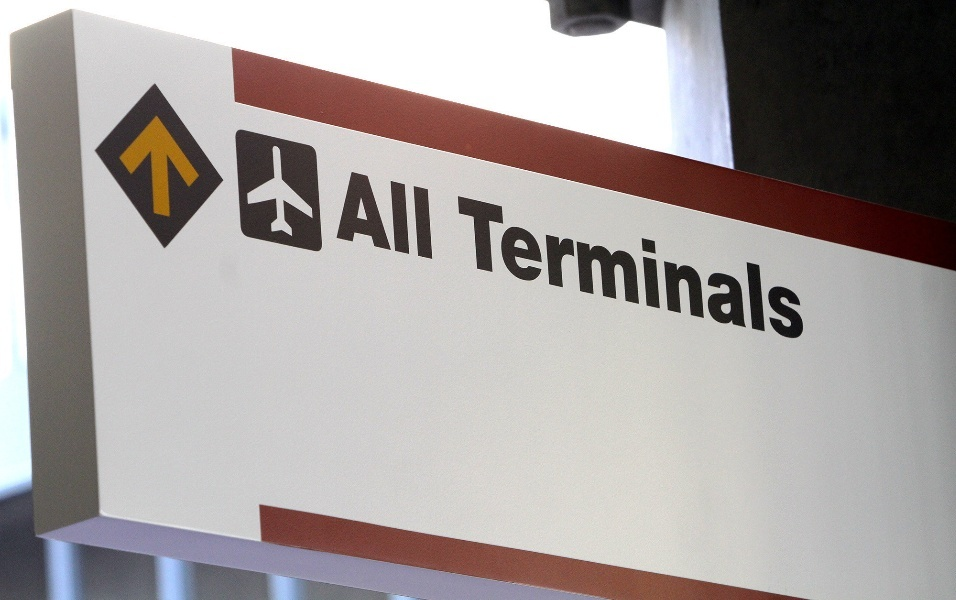text: (465, 194, 480, 342), (481, 194, 496, 342), (497, 194, 512, 342), (513, 194, 528, 342), (529, 194, 544, 342), (545, 194, 560, 342), (561, 194, 576, 342), (577, 194, 592, 342), (593, 194, 608, 342), (609, 194, 624, 342), (625, 194, 640, 342), (641, 194, 656, 342), (657, 194, 672, 342), (673, 194, 688, 342), (689, 194, 704, 342), (705, 194, 720, 342), (721, 194, 736, 342), (737, 194, 752, 342), (753, 194, 768, 342), (769, 194, 784, 342), (785, 194, 800, 342), (453, 194, 464, 342), (353, 171, 368, 260), (369, 171, 384, 260), (385, 171, 400, 260), (401, 171, 416, 260), (417, 171, 432, 260), (801, 194, 808, 342), (347, 171, 352, 260), (433, 171, 435, 260)
